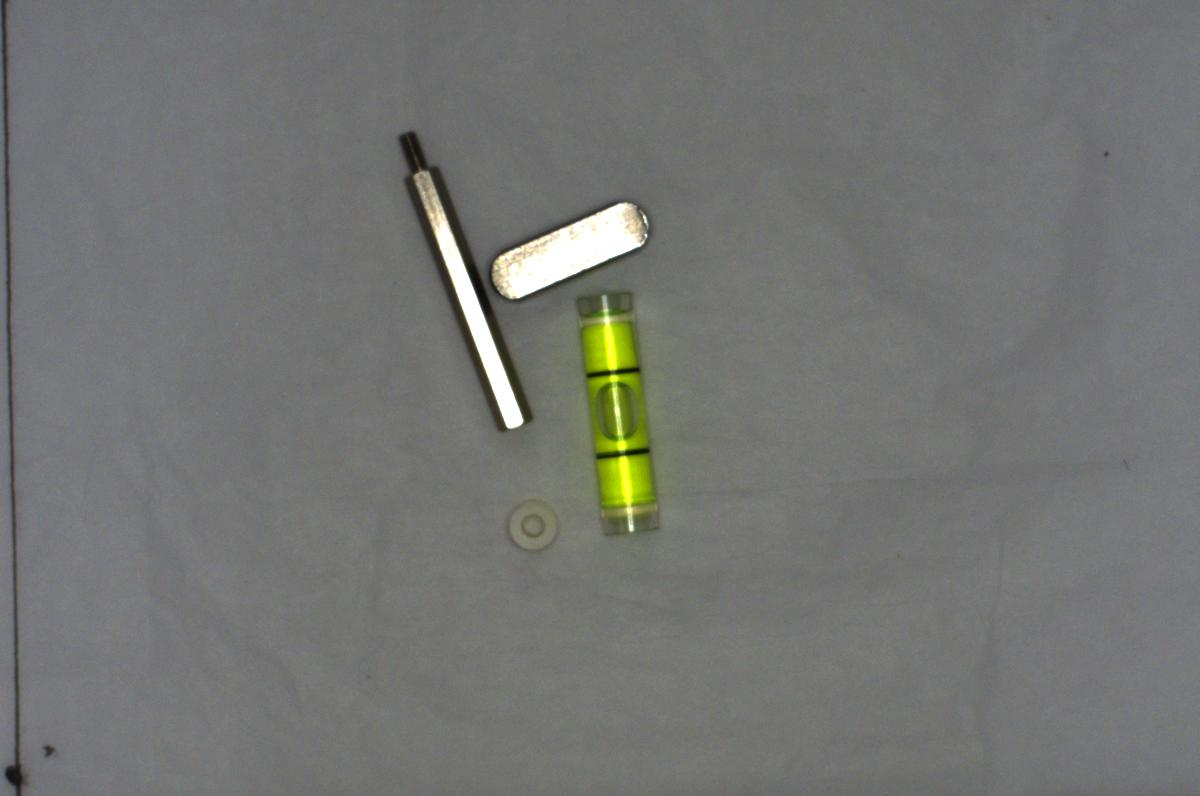Hexagonal steel column: (393, 126, 537, 430)
Horizontal bubble: (575, 294, 660, 542)
Keybar: (490, 196, 660, 300)
Plastic cushion pillar: (502, 493, 559, 556)
